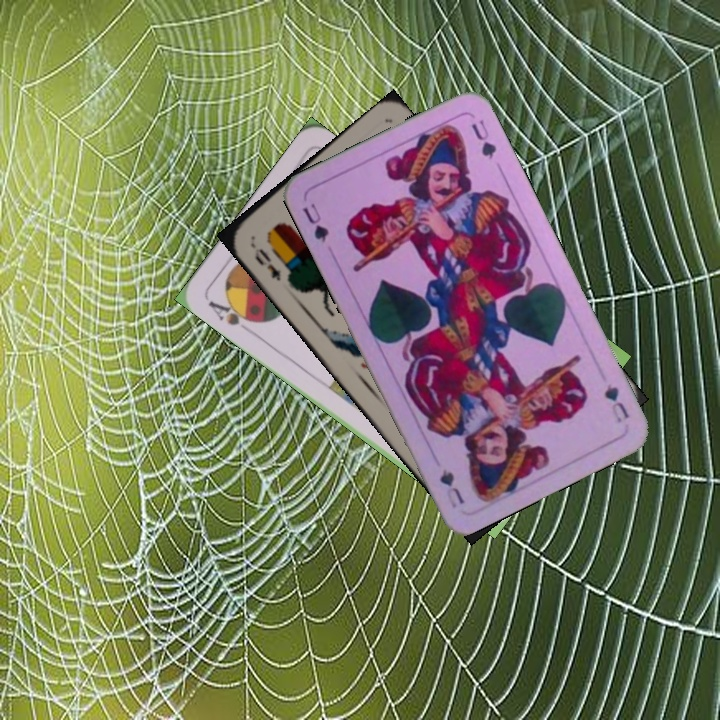EO: (246, 238, 284, 284)
GU: (298, 199, 332, 245), (600, 379, 632, 426)
SA: (203, 295, 261, 336)
